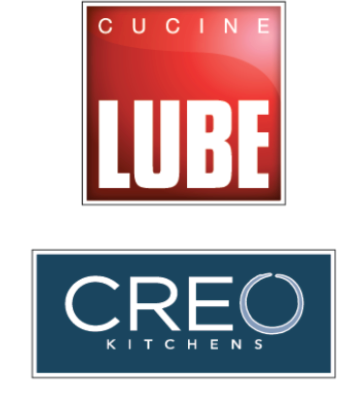creo: (28, 247, 339, 381)
lube: (80, 1, 290, 209)
lube creo: (25, 1, 340, 381)
